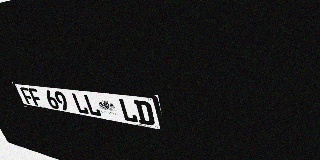plate: (12, 81, 165, 132)
